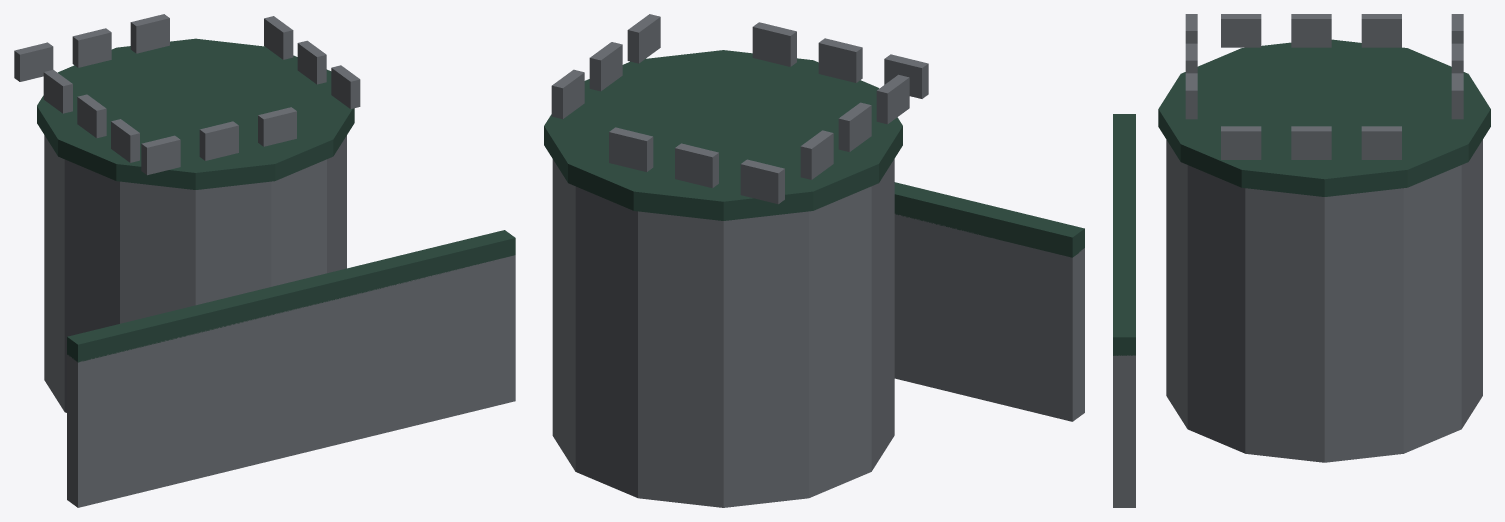
File: Bastion.fbx
3 views of the same model, side by side, from view 1: azimuth 30°, elevation 25°; view 2: azimuth 150°, elevation 25°; view 3: azimuth 270°, elevation 25° (orthographic). The views are drawn at different scales.
Visible parts, largest first — view 1: Bastion; view 2: Bastion; view 3: Bastion.
Boxes of the visible parts, x1=… form: Bastion: x1=14, y1=14, x2=515, y2=507; Bastion: x1=544, y1=14, x2=1084, y2=507; Bastion: x1=1113, y1=14, x2=1490, y2=507.
Size of the model in its own units: 1202 by 812 by 859.
3 materials, 3 textured.
